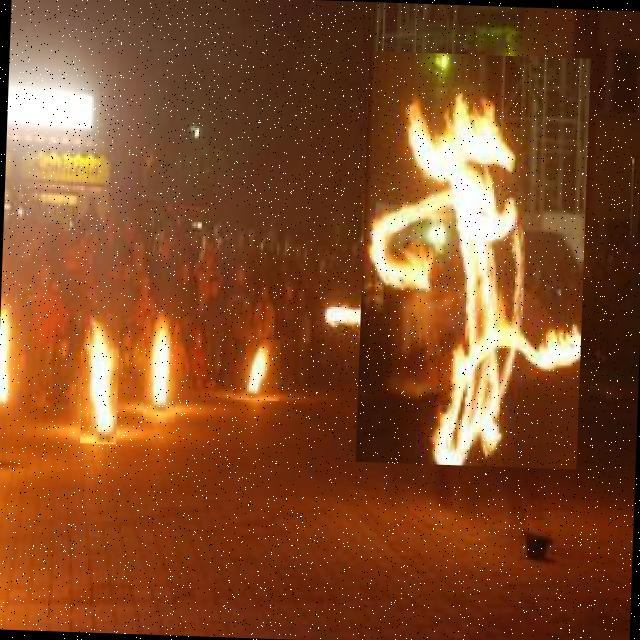fire: (355, 51, 590, 469), (80, 315, 120, 444), (142, 311, 178, 423), (232, 338, 280, 401)
